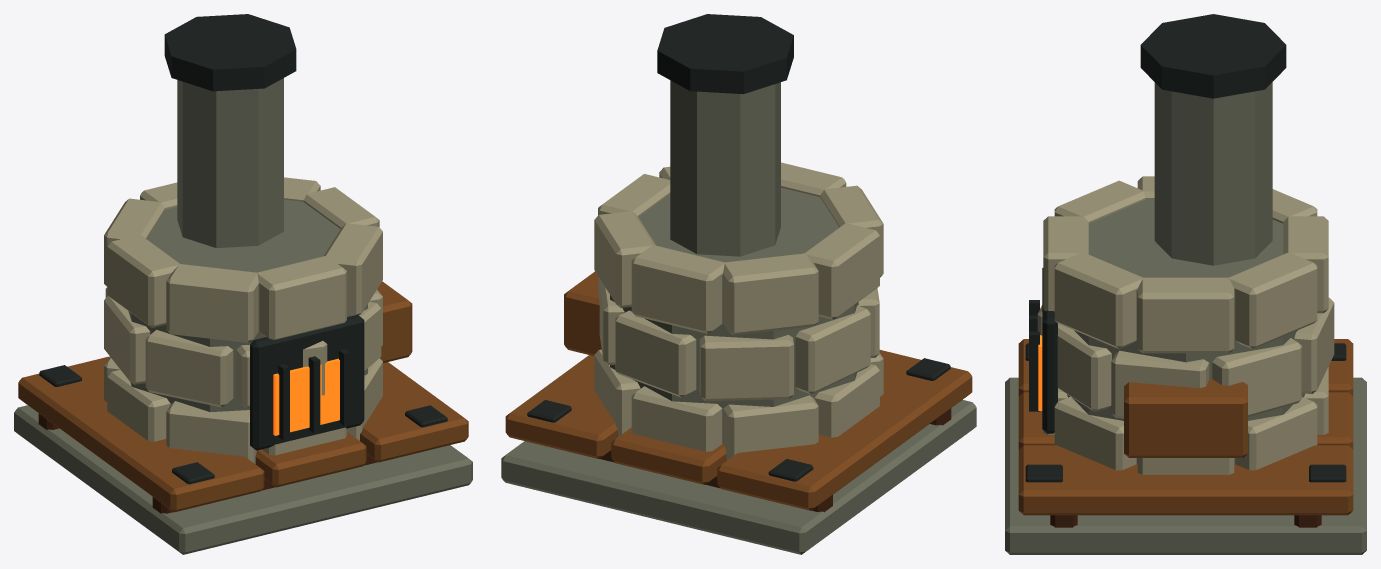
Rendered from furnace.glb.
3 views of the same model, side by side, from view 1: azimuth 30°, elevation 25°; view 2: azimuth 150°, elevation 25°; view 3: azimuth 270°, elevation 25° (orthographic). The views are drawn at different scales.
Parts seen in each view (by area): view 1: furnace_body; view 2: furnace_body; view 3: furnace_body.
Part boxes in pixels (left/top/right/bottom): furnace_body: left=14, top=14, right=472, bottom=554; furnace_body: left=501, top=14, right=976, bottom=554; furnace_body: left=1005, top=14, right=1366, bottom=554.
Bounding box in the file's own units: 1.87 × 2.45 × 1.84.
